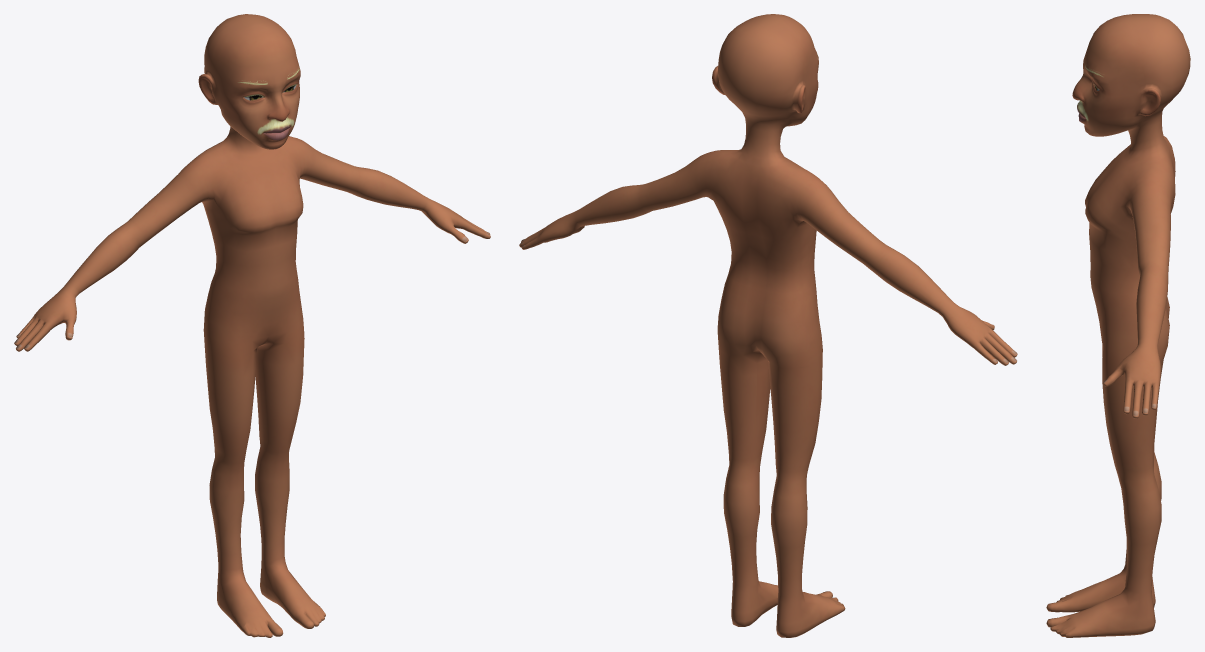
Rendered from frame_0071.glb.
The picture shows the model from 3 angles, left to right: view 1: azimuth 30°, elevation 25°; view 2: azimuth 150°, elevation 25°; view 3: azimuth 270°, elevation 25°; orthographic projection. The views are drawn at different scales.
Parts seen in each view (by area): view 1: frame_0071_head_geo; view 2: frame_0071_head_geo; view 3: frame_0071_head_geo.
Boxes of the visible parts, left/top/right/bottom form: frame_0071_head_geo: left=14, top=14, right=490, bottom=637; frame_0071_head_geo: left=519, top=14, right=1017, bottom=637; frame_0071_head_geo: left=1046, top=14, right=1190, bottom=637.
Bounding box in the file's own units: 1.28 × 1.5 × 0.3253.
3 materials, 3 textured.
